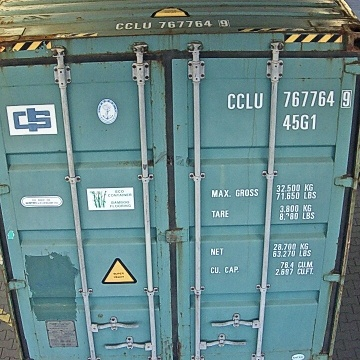serial_id: (228, 90, 351, 108)
